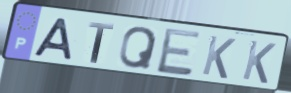A: (32, 16, 75, 62)
E: (154, 26, 203, 78)
K: (239, 38, 278, 86), (199, 33, 238, 81)
Q: (117, 25, 160, 71)
T: (87, 20, 116, 65)
